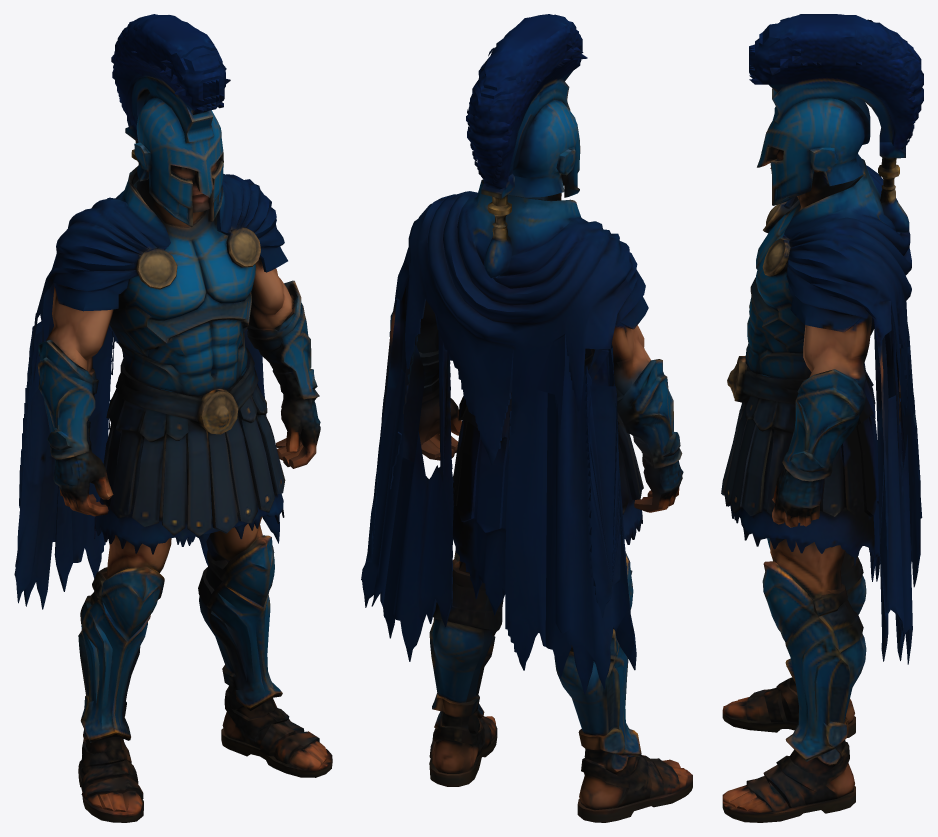
File: ancient_blue_hoplite_warrior.glb
3 views of the same model, side by side, from view 1: azimuth 30°, elevation 25°; view 2: azimuth 150°, elevation 25°; view 3: azimuth 270°, elevation 25° (orthographic). The views are drawn at different scales.
Parts seen in each view (by area): view 1: Object_2; view 2: Object_2; view 3: Object_2.
Part boxes in pixels (x1,y1,x2,y2): Object_2: [14, 14, 332, 822]; Object_2: [361, 14, 692, 822]; Object_2: [721, 14, 923, 822].
Bounding box in the file's own units: 0.7169 × 1.9 × 0.4681.
Materials: 1 (1 with a texture image).
